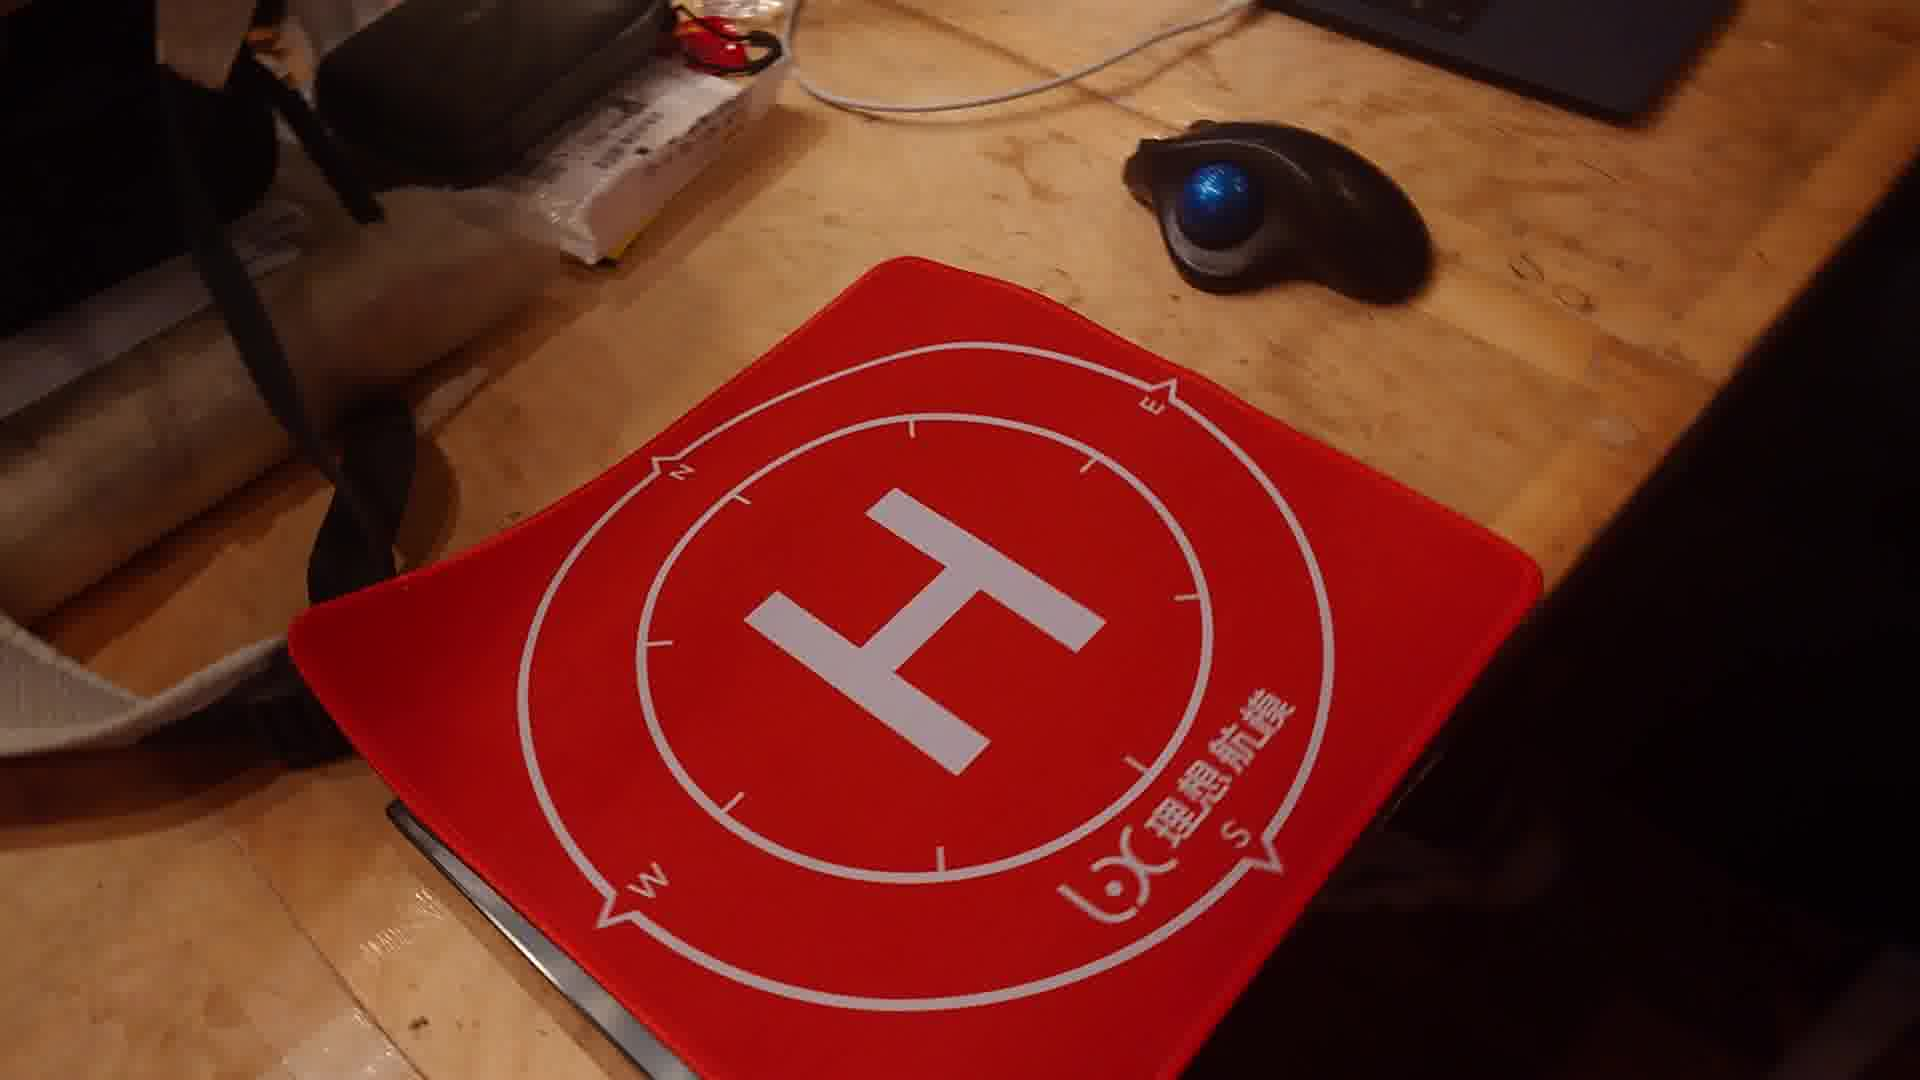H: (742, 481, 1106, 779)
